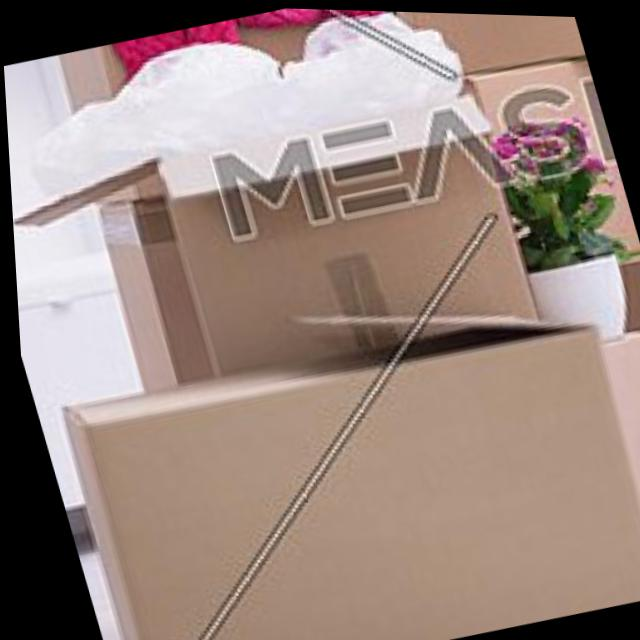box: (0, 0, 635, 450), (29, 261, 640, 640)
